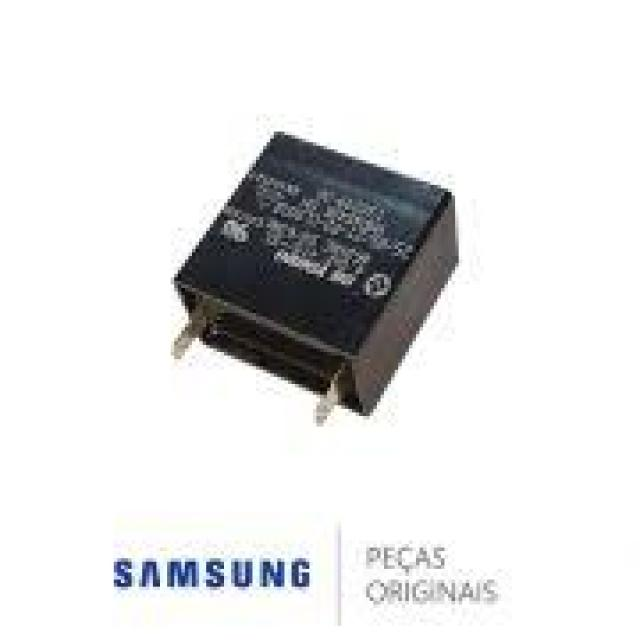Capacitor: (174, 132, 462, 420)
